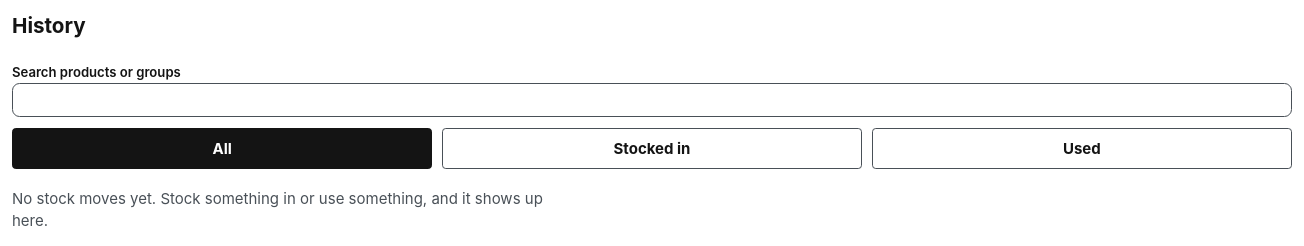
Scenario: LedgerPage › says what to do when nothing has moved, and when a filter matches nothing
This screenshot has width=1304, height=246.
Expected: the text "No stock moves yet" is shown, [12,189,543,230]
Click the button "Stocked in": (652, 149) [442,128,862,169]
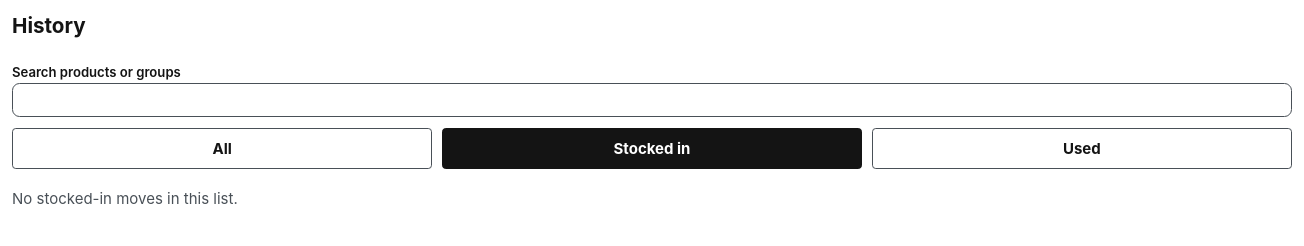
Now the text "No stocked-in moves in this list." is shown, box [12,189,238,208]
